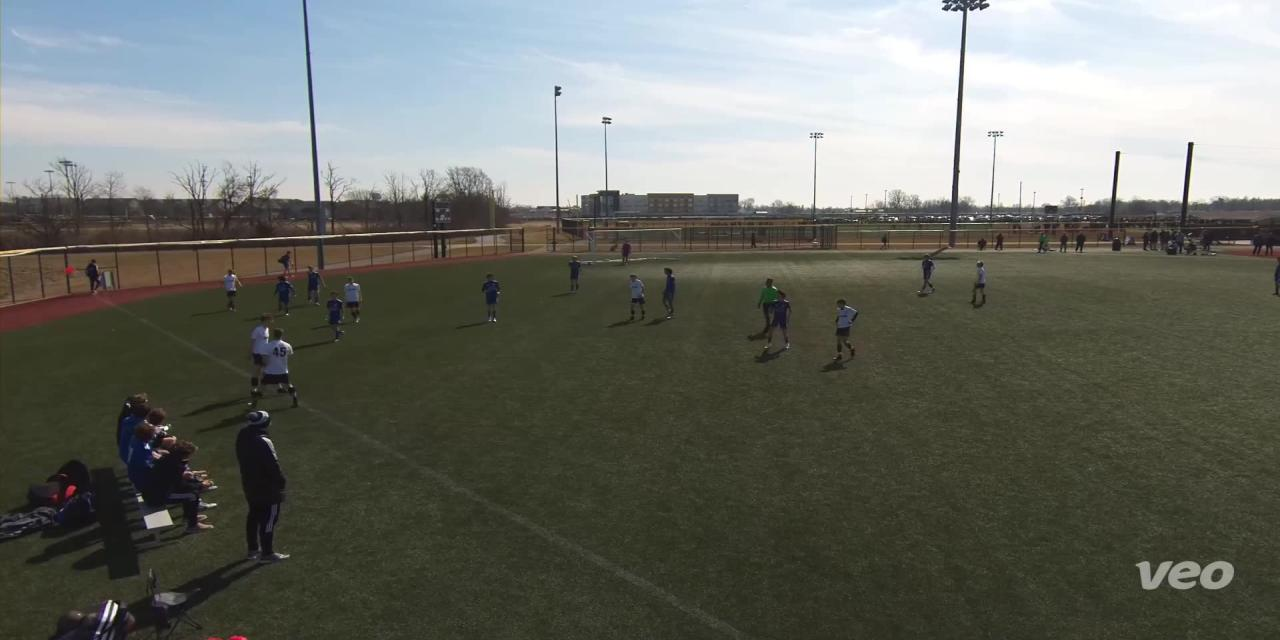goal: (569, 222, 687, 272)
